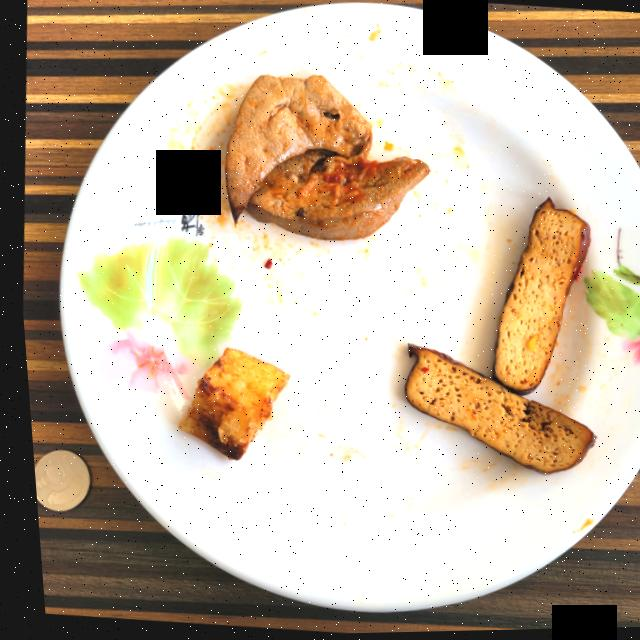coin: (27, 450, 82, 511)
firm tofu: (399, 200, 588, 475)
fried potato: (172, 349, 283, 460)
pig liver: (222, 76, 426, 241)
